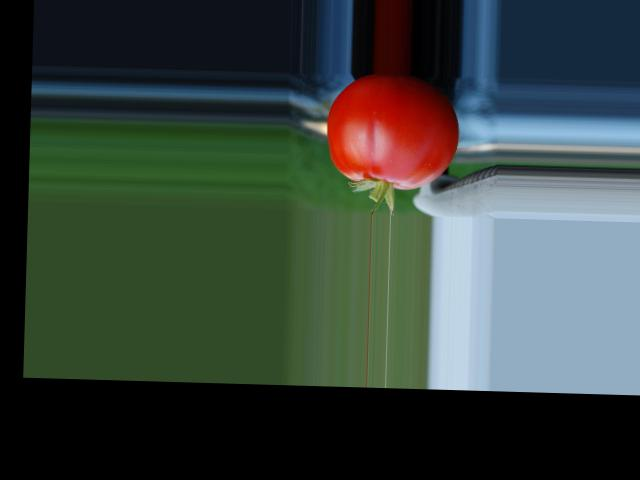tomato: (324, 71, 460, 190)
